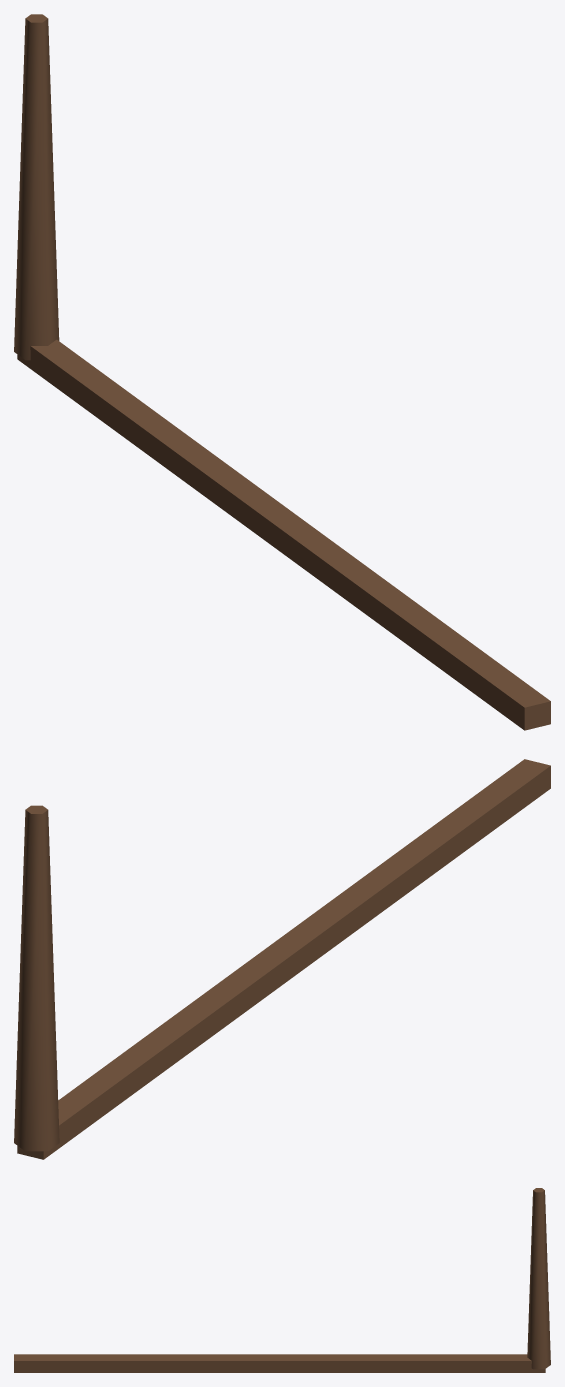
File: wreck-keel.glb
The picture shows the model from 3 angles, top to bottom: view 1: azimuth 30°, elevation 25°; view 2: azimuth 150°, elevation 25°; view 3: azimuth 270°, elevation 25°; orthographic projection. The views are drawn at different scales.
Bounding box in the file's own units: 0.3118 × 2.98 × 8.08.
